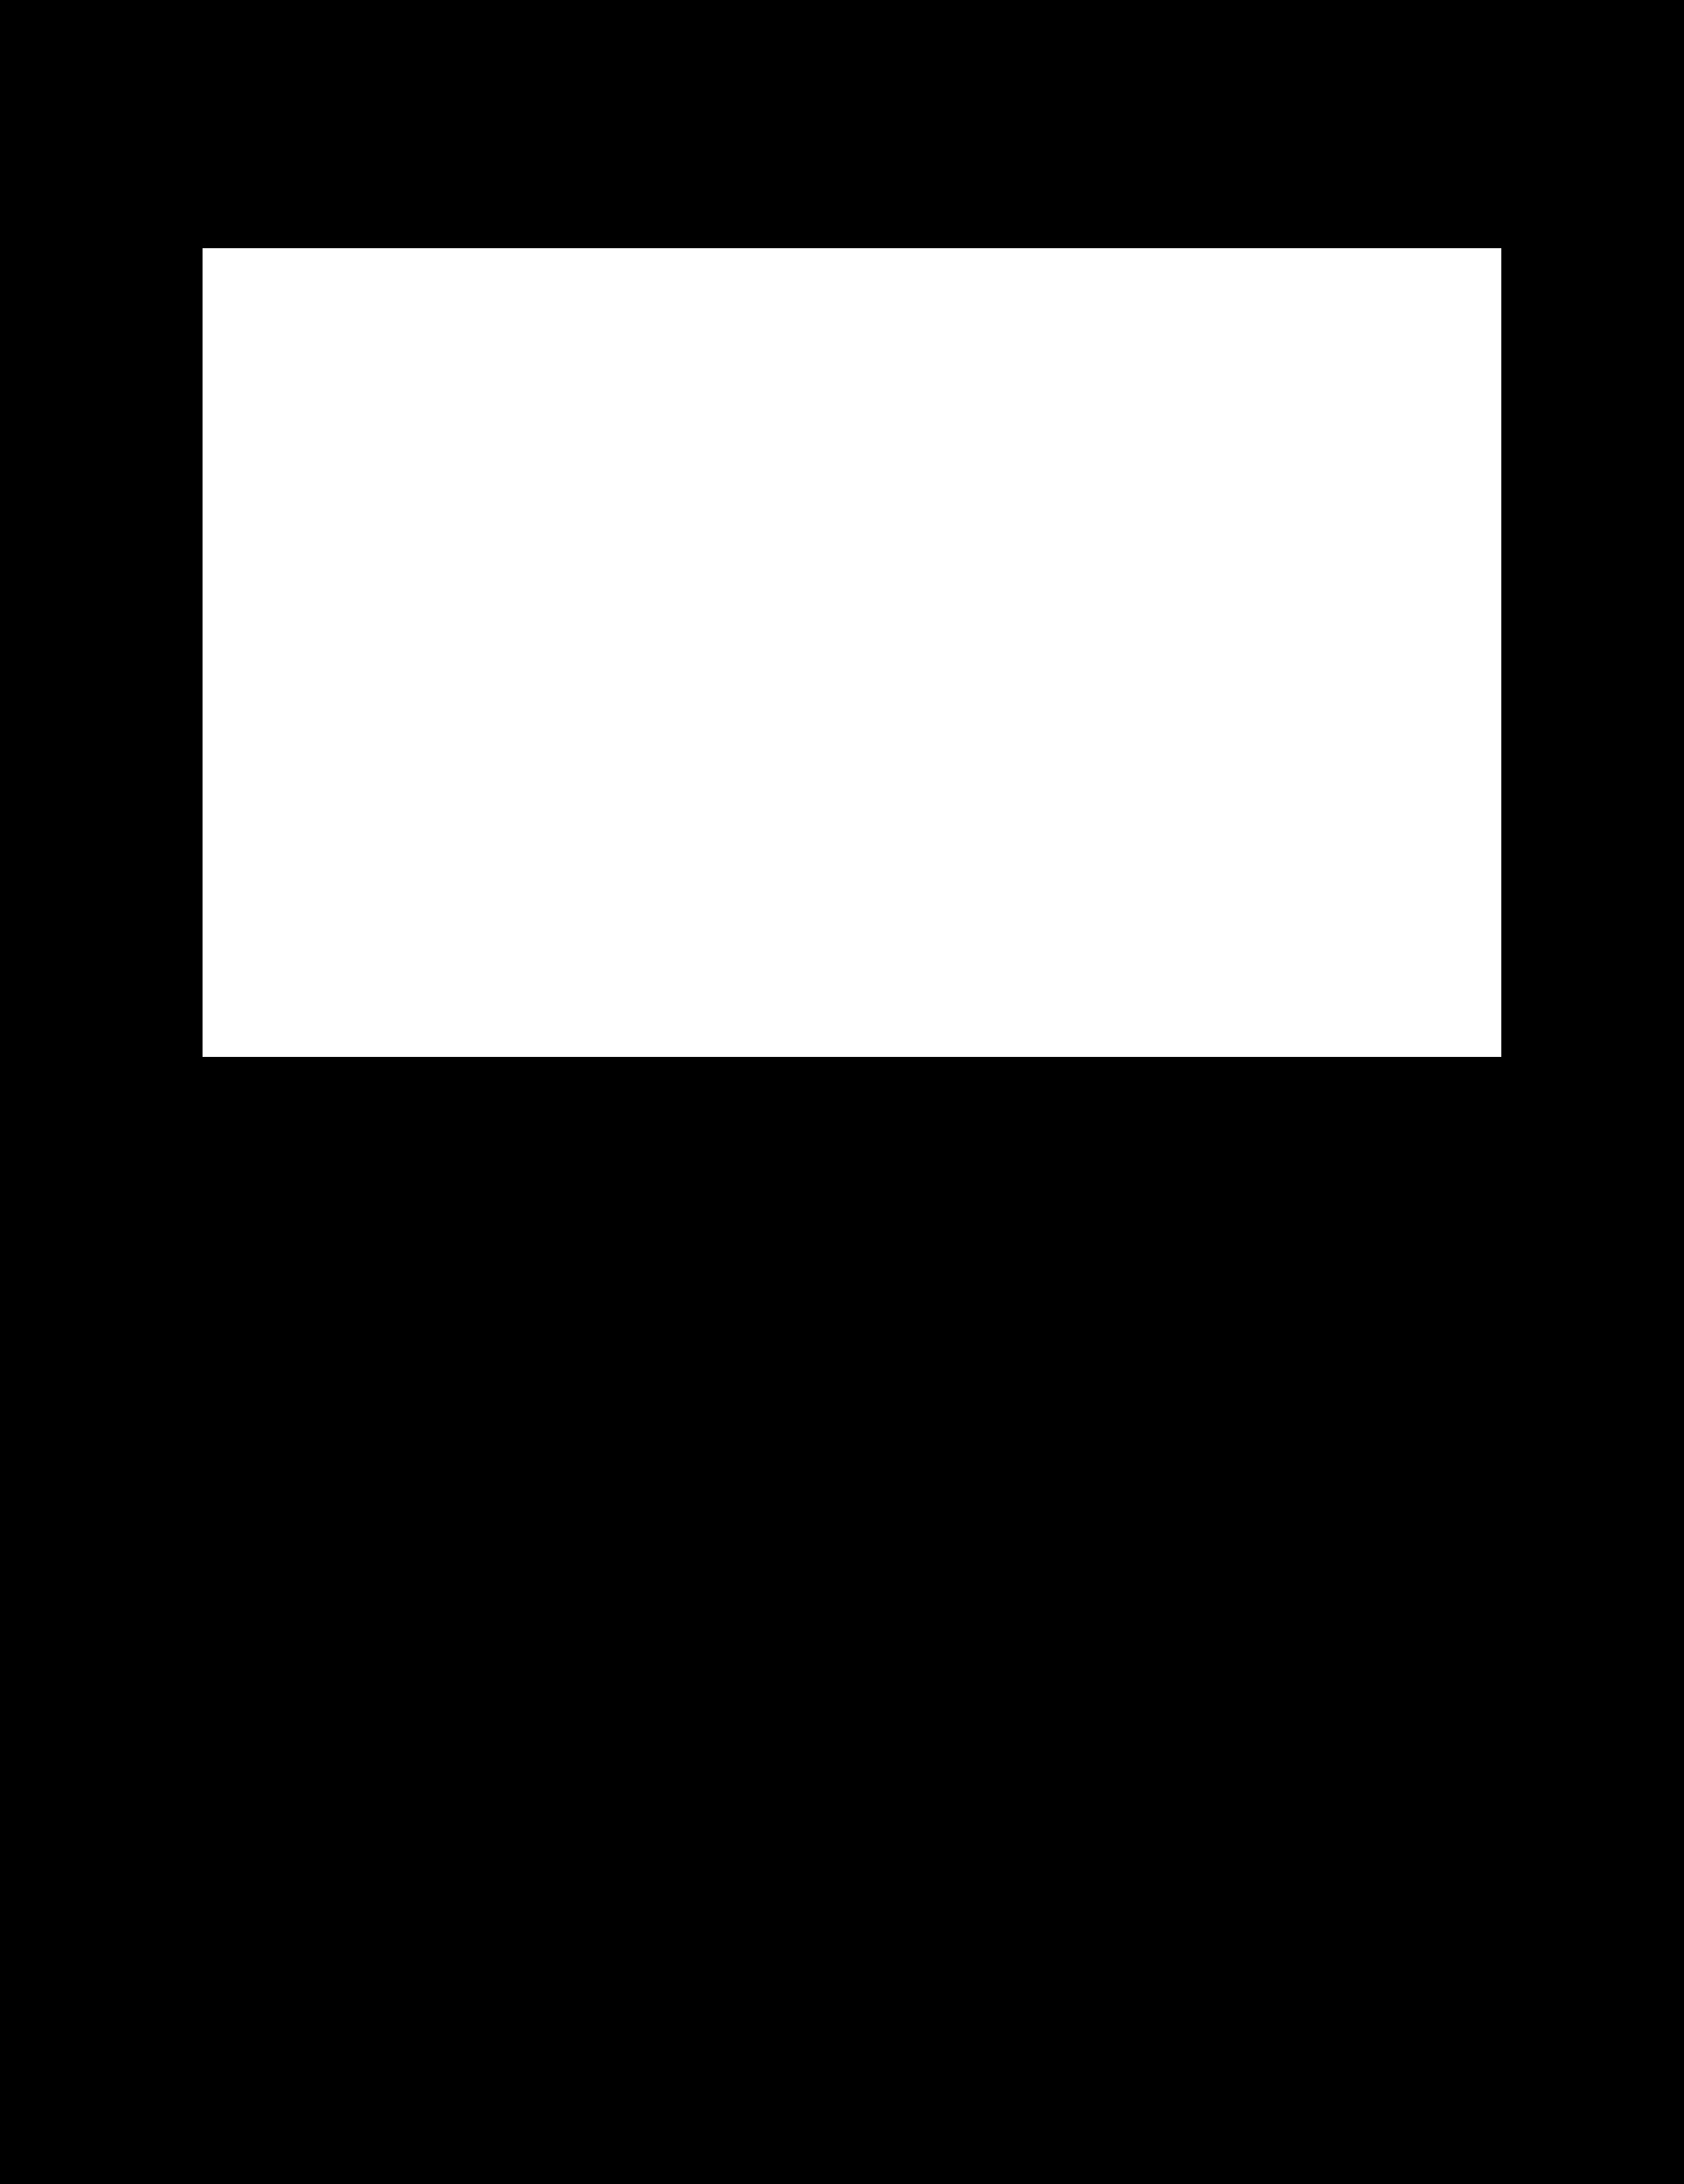table: (203, 248, 1500, 1056)
